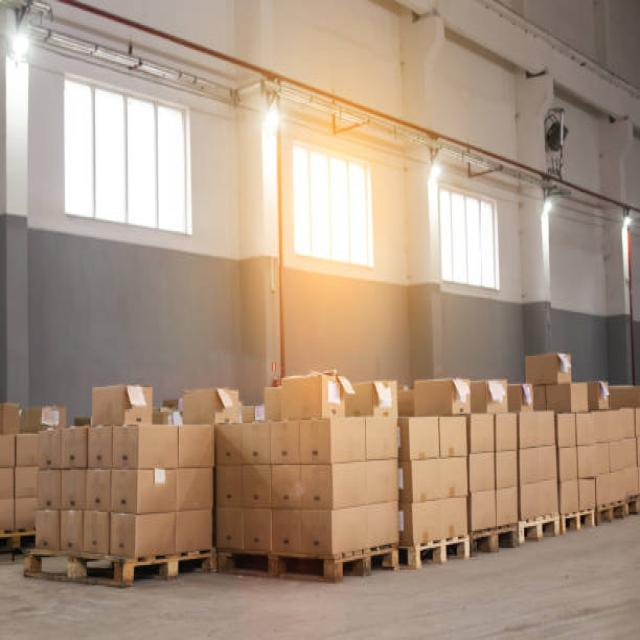Wooden-Pallets: (19, 536, 218, 595), (219, 532, 400, 589), (407, 524, 473, 579), (517, 509, 564, 555), (472, 519, 517, 565)
